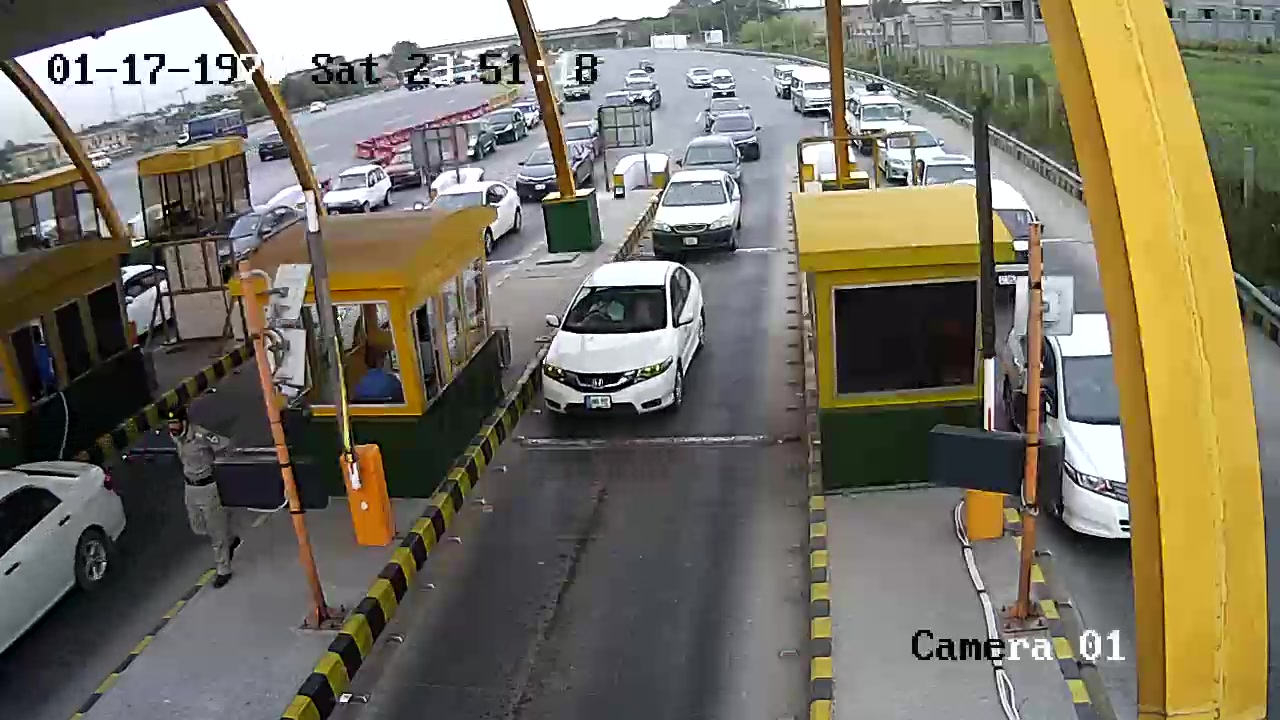F1: (514, 254, 745, 442)
